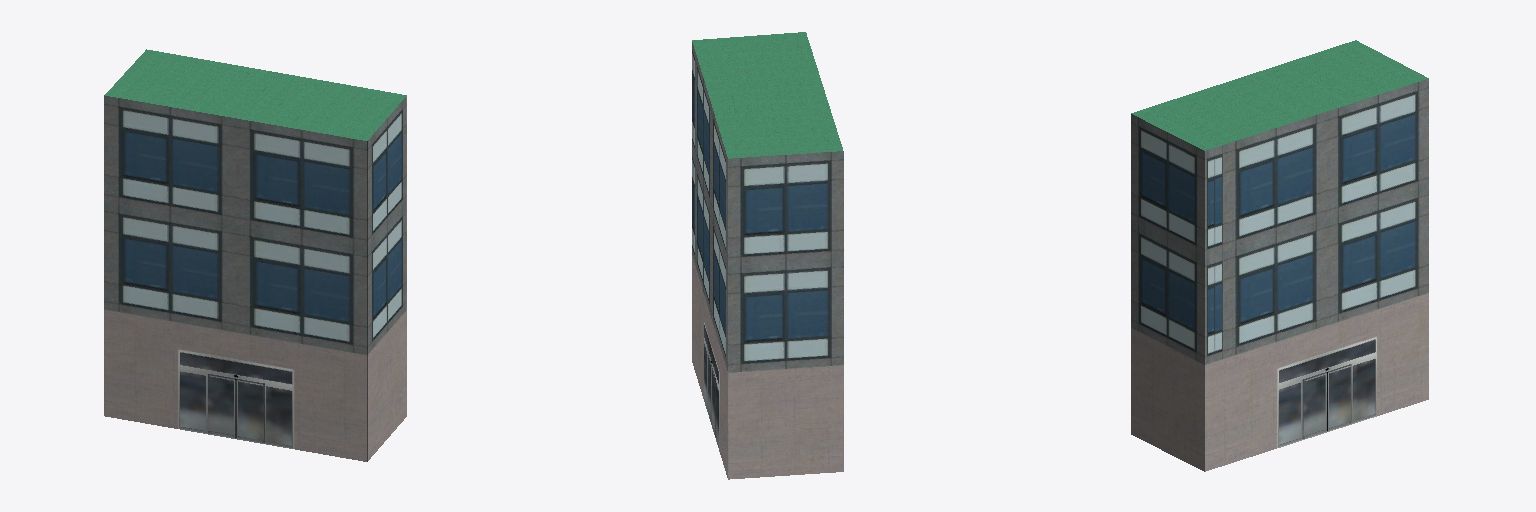
The picture shows the model from 3 angles: view 1: azimuth 30°, elevation 25°; view 2: azimuth 150°, elevation 25°; view 3: azimuth 270°, elevation 25°; orthographic projection.
Visible parts, largest first — view 1: BuildingMaster_[number redacted]_0, BuildingMaster_[number redacted]_1; view 2: BuildingMaster_[number redacted]_0, BuildingMaster_[number redacted]_1; view 3: BuildingMaster_[number redacted]_0, BuildingMaster_[number redacted]_1.
Boxes of the visible parts, x1=… form: BuildingMaster_[number redacted]_0: x1=104, y1=95, x2=406, y2=461; BuildingMaster_[number redacted]_1: x1=105, y1=49, x2=406, y2=140; BuildingMaster_[number redacted]_0: x1=692, y1=42, x2=843, y2=479; BuildingMaster_[number redacted]_1: x1=692, y1=32, x2=842, y2=158; BuildingMaster_[number redacted]_0: x1=1131, y1=79, x2=1428, y2=471; BuildingMaster_[number redacted]_1: x1=1131, y1=40, x2=1428, y2=150.
Bounding box in the file's own units: 7.78 × 10.5 × 8.86.
Materials: 2 (2 with a texture image).